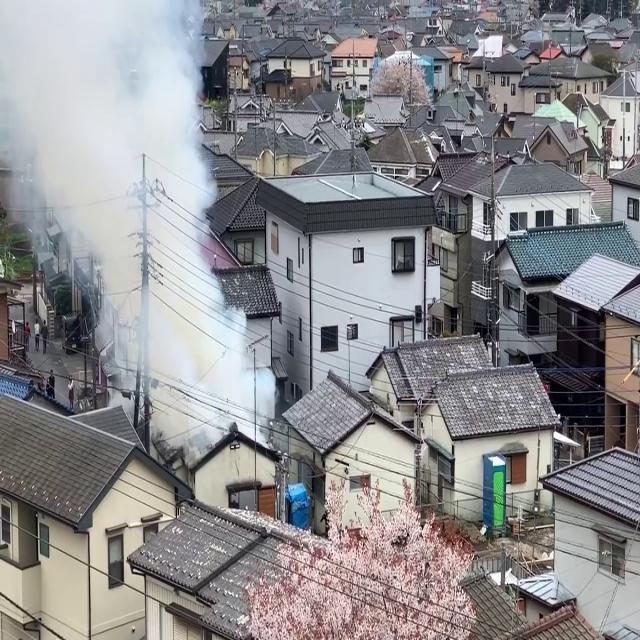Smoke: (0, 0, 272, 451)
